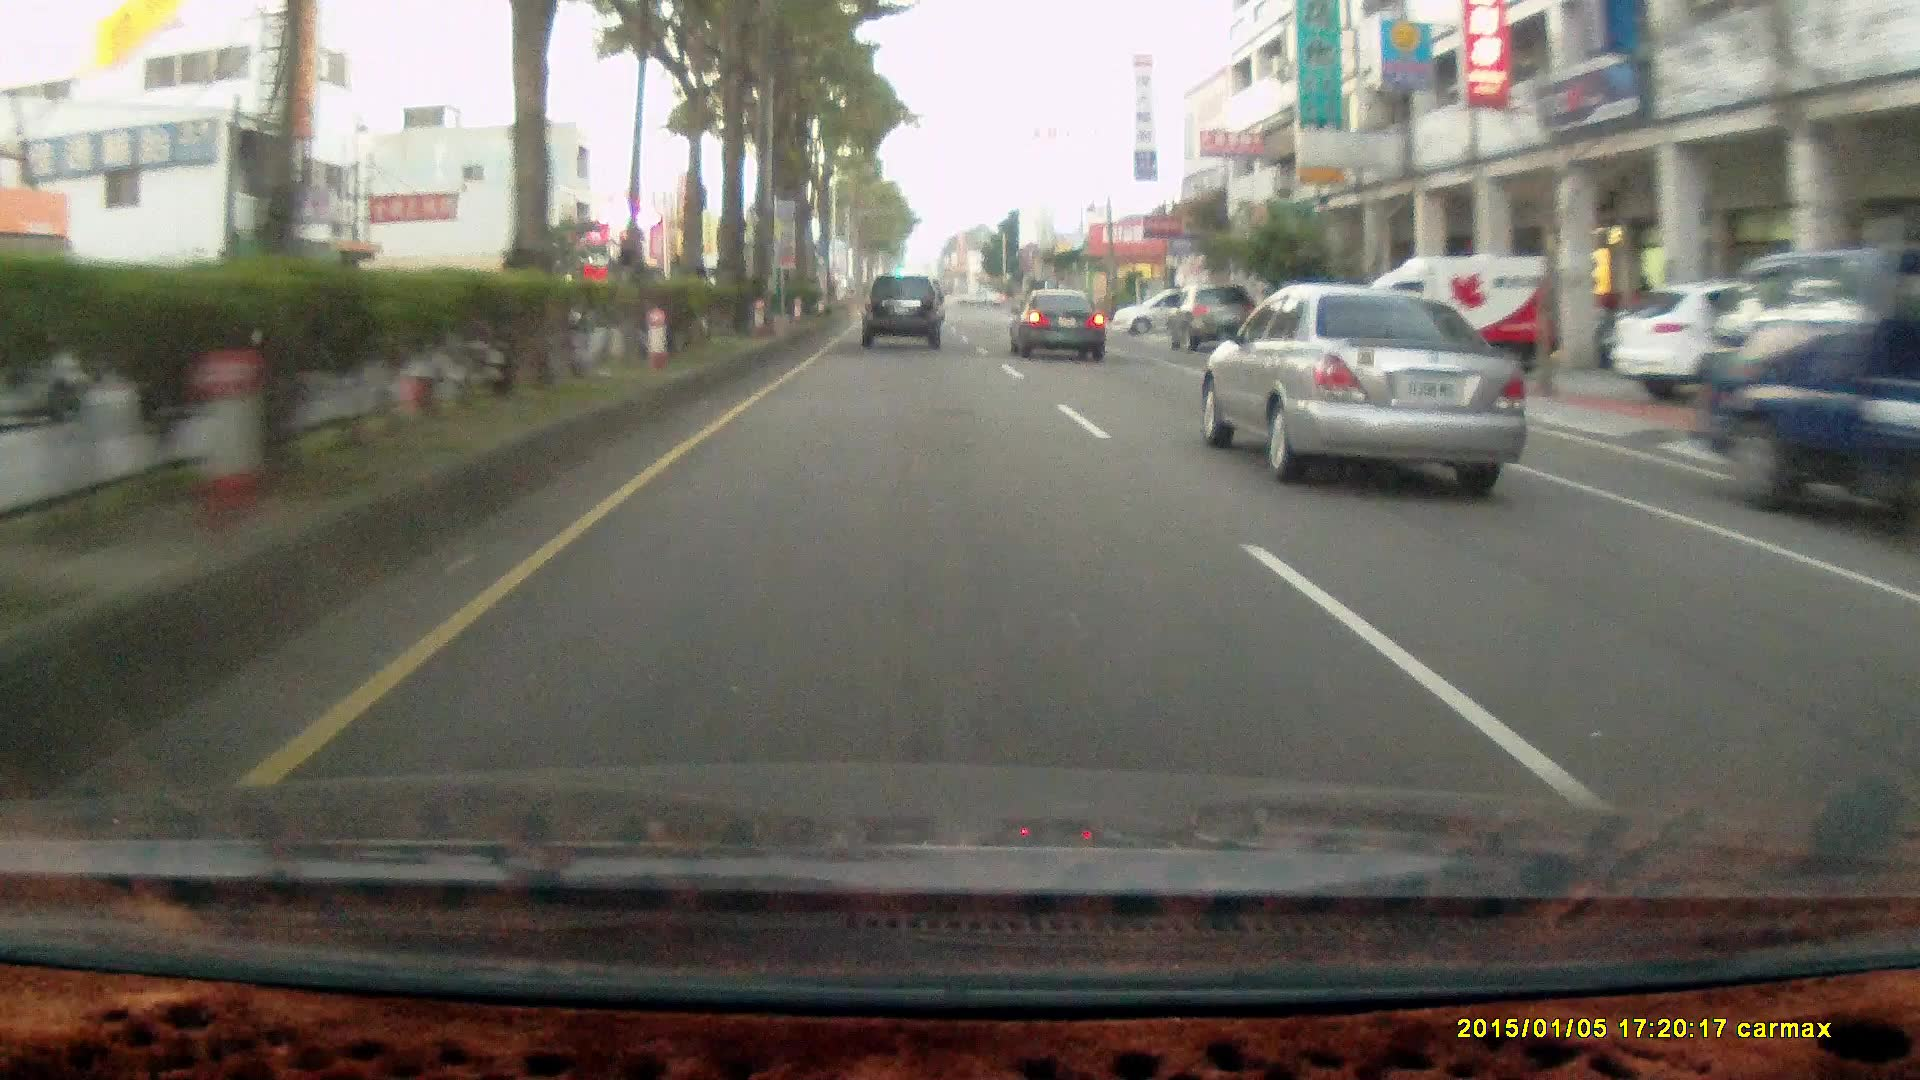vehicle: (1695, 248, 1920, 547), (1211, 289, 1538, 489), (1606, 280, 1858, 407), (1352, 253, 1560, 382), (1352, 253, 1553, 382), (1009, 287, 1110, 365), (1010, 287, 1106, 359), (861, 276, 947, 352), (860, 274, 942, 349), (1174, 287, 1261, 357), (1164, 287, 1255, 352)
